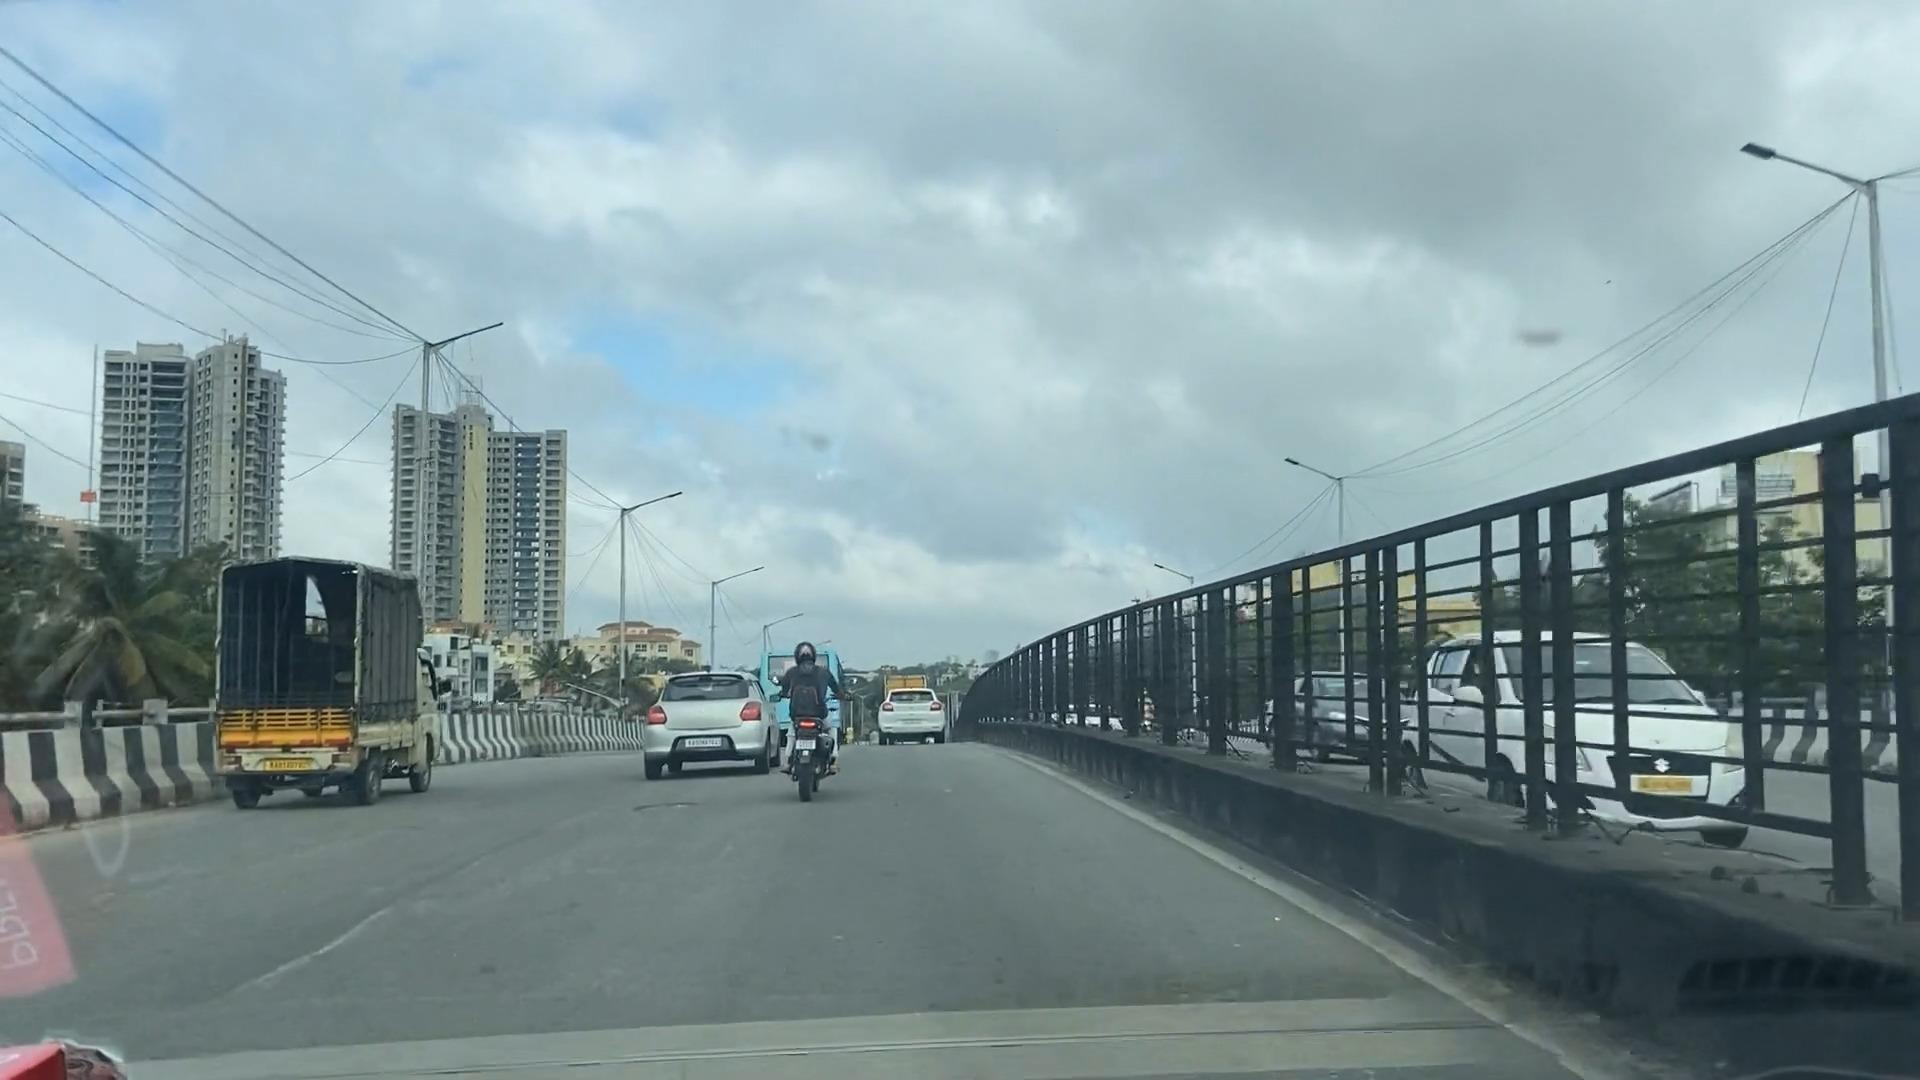HMV: (208, 539, 462, 819), (752, 622, 857, 773)
LMV: (626, 629, 785, 799), (740, 622, 866, 827), (870, 653, 965, 746)
